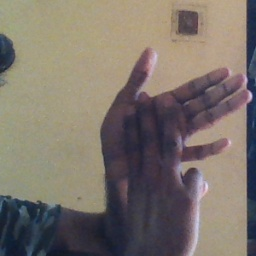M: (90, 45, 252, 216)
